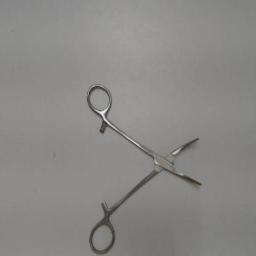Crile Artery Forceps: (81, 82, 205, 254)
